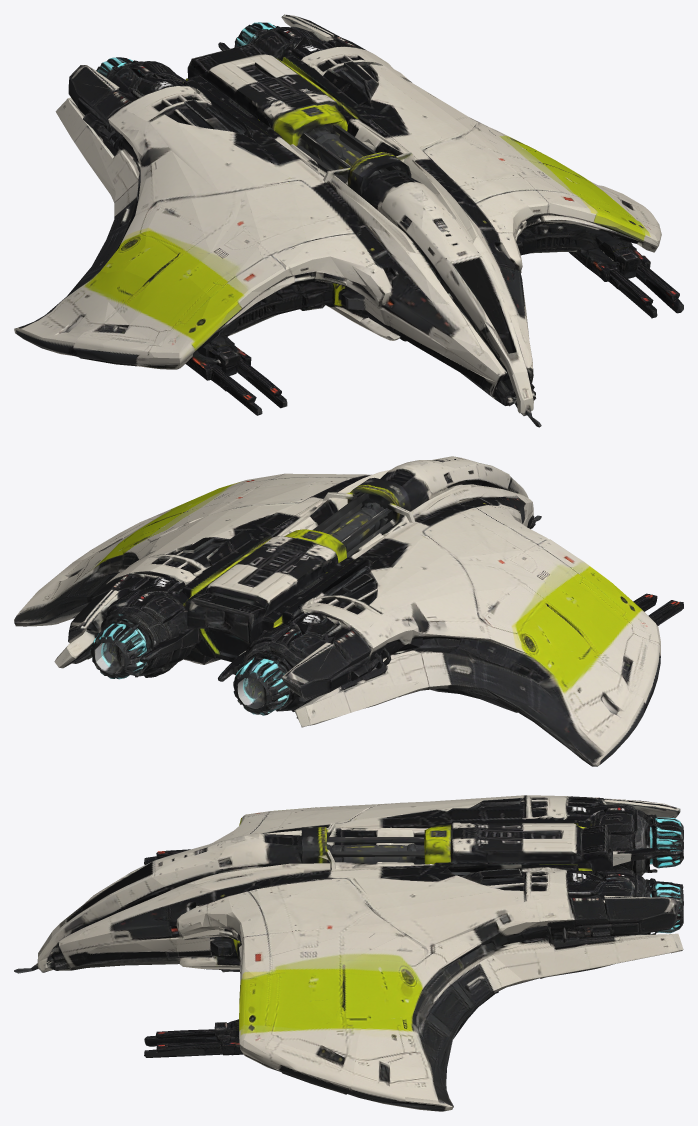
File: v4-player.glb
3 views of the same model, one above another, from view 1: azimuth 30°, elevation 25°; view 2: azimuth 150°, elevation 25°; view 3: azimuth 270°, elevation 25° (orthographic). The views are drawn at different scales.
Parts seen in each view (by area): view 1: player_body_00; view 2: player_body_00; view 3: player_body_00.
Boxes of the visible parts, x1,y1,x2,y2 form: player_body_00: (14, 14, 683, 427); player_body_00: (14, 456, 683, 766); player_body_00: (14, 795, 683, 1111).
Size of the model in its own units: 0.9429 by 0.2465 by 1.
1 material, 1 textured.
